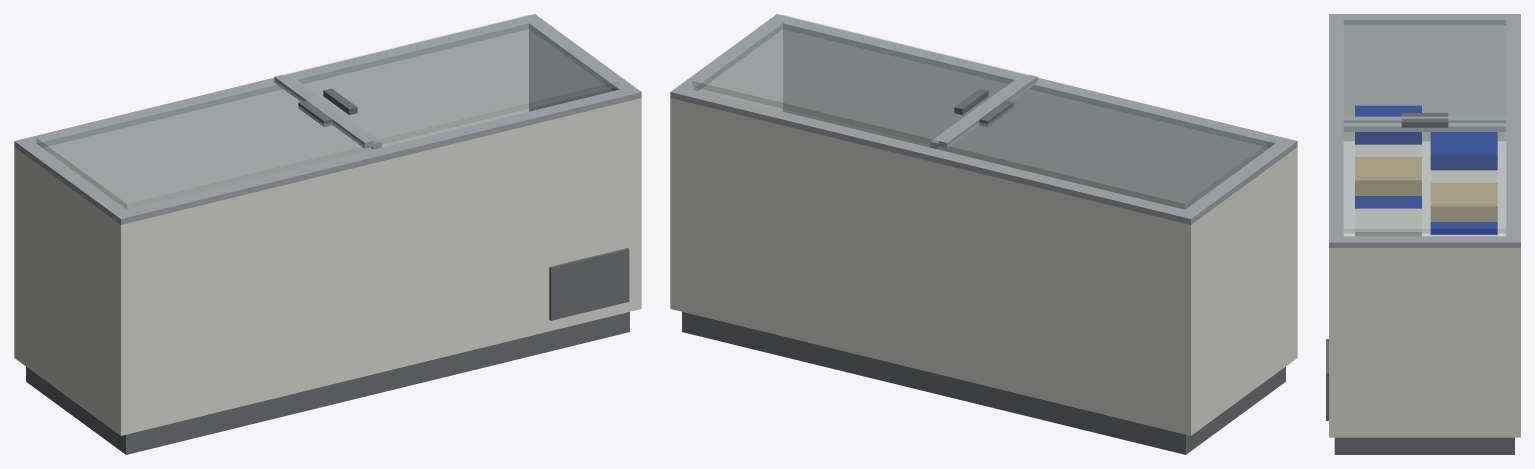
The model's file is display_freezer.glb.
3 renders of one model, left to right at view 1: azimuth 30°, elevation 25°; view 2: azimuth 150°, elevation 25°; view 3: azimuth 270°, elevation 25°, orthographic. The views are drawn at different scales.
Visible parts, largest first — view 1: display_freezer:compound; view 2: display_freezer:compound; view 3: display_freezer:compound.
Part boxes in pixels (x1,y1,x2,y2): display_freezer:compound: (14, 14, 641, 454); display_freezer:compound: (670, 14, 1297, 454); display_freezer:compound: (1326, 14, 1520, 454).
Bounding box in the file's own units: 1.86 × 0.87 × 0.67.
